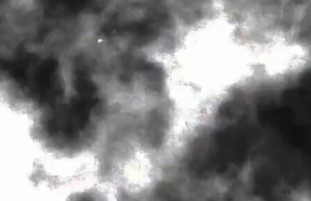Target: (99, 40, 102, 43)
